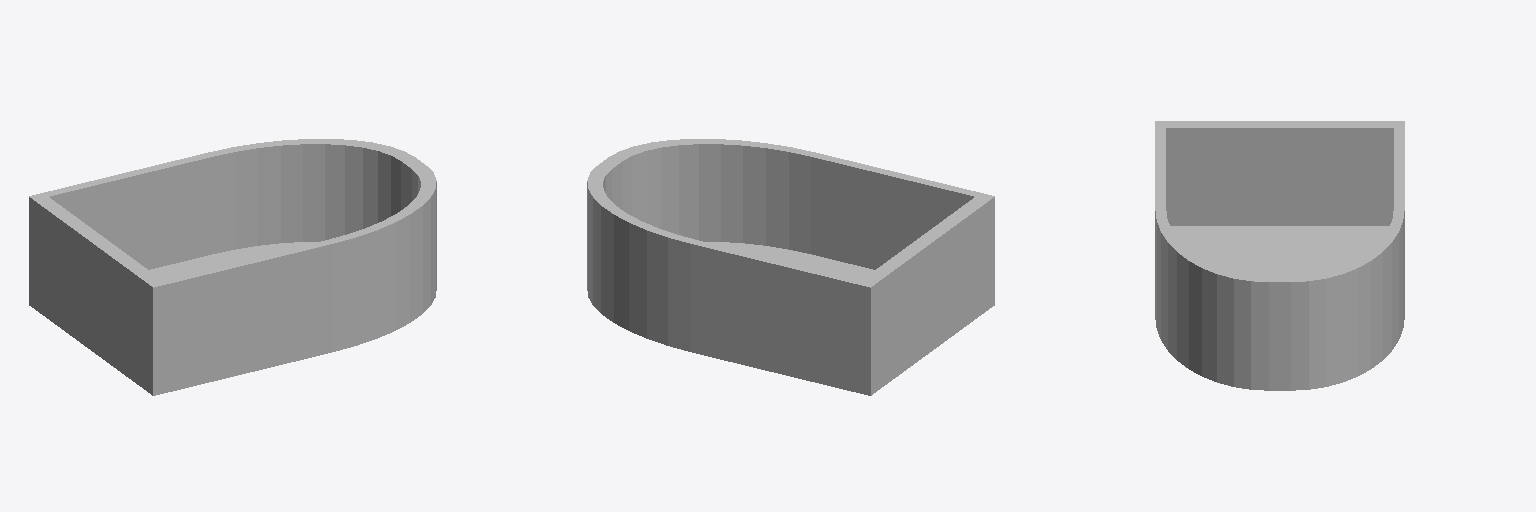
Rendered from fingercase.obj.
3 renders of one model, left to right at view 1: azimuth 30°, elevation 25°; view 2: azimuth 150°, elevation 25°; view 3: azimuth 270°, elevation 25°, orthographic.
Parts seen in each view (by area): view 1: fingertip; view 2: fingertip; view 3: fingertip.
Boxes of the visible parts, x1=… form: fingertip: x1=29, y1=139, x2=436, y2=395; fingertip: x1=587, y1=139, x2=994, y2=395; fingertip: x1=1155, y1=121, x2=1404, y2=390.
Size of the model in its own units: 0.0504 by 0.0158 by 0.033.